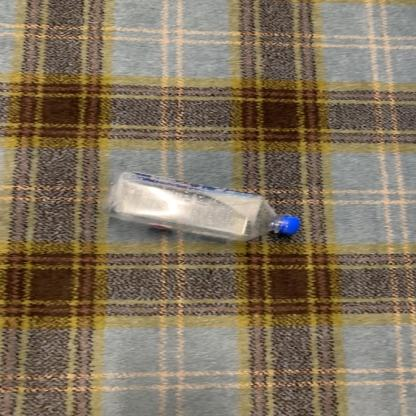trash: (102, 171, 302, 247)
